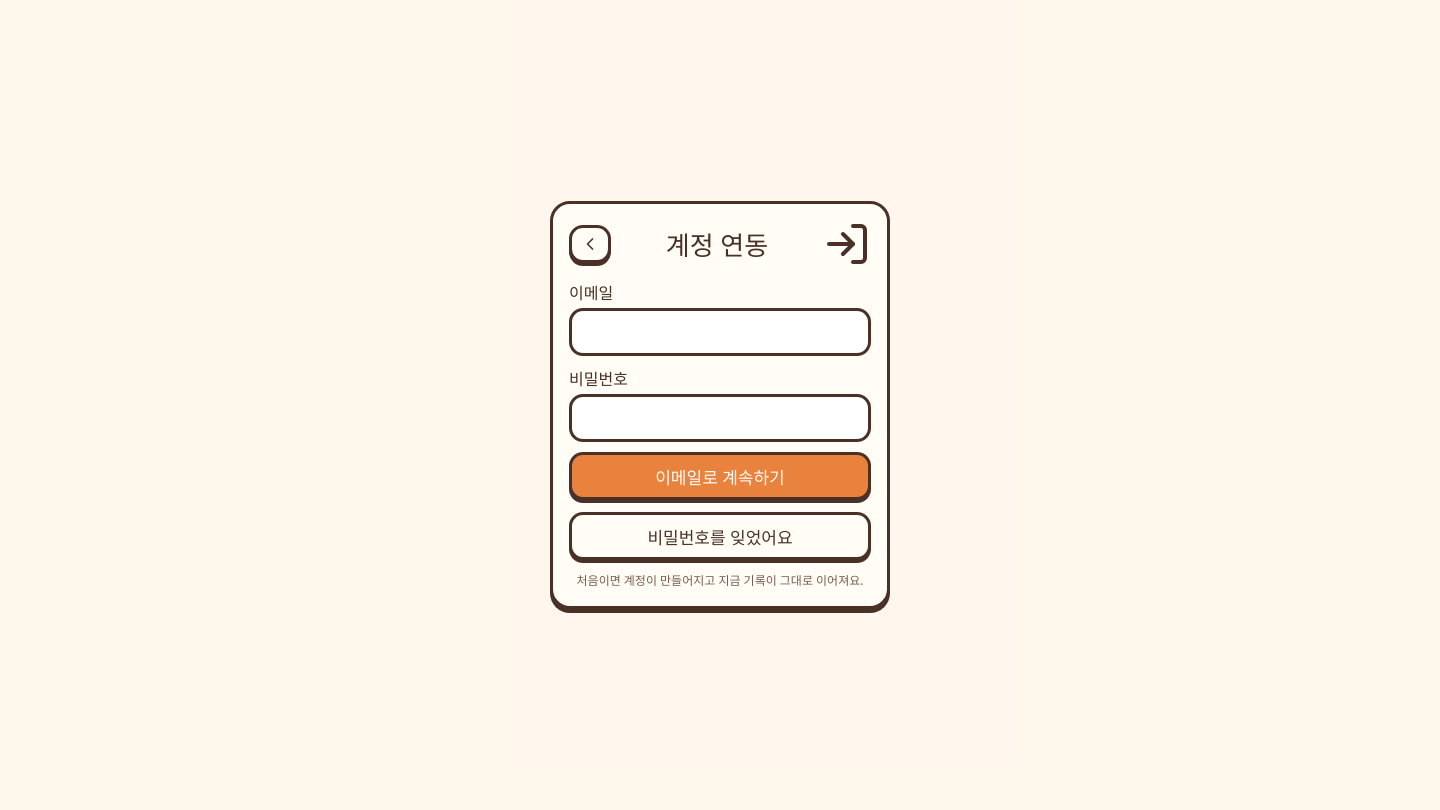
Scenario: AuthDialog 상호작용 및 수명 보존 (task-1 회귀 검증) › chooseBase 상태에서도 입력 필드·오류가 form 안에 유지되고, reset 버튼은 form 밖에서 chooseBase일 때 숨겨진다
The width and height of the screenshot is (1440, 810).
Expected: the form with class "login-form" is shown, [569, 280, 871, 500]
Note: 유효성 검사 실패 시 오류가 form 안에 표시된다
Type "test@example.com" into the field labelled "이메일". click: (720, 332)
box: [569, 308, 871, 356]
Type "123" into the password field labelled "비밀번호". click: (720, 418)
box: [569, 394, 871, 442]
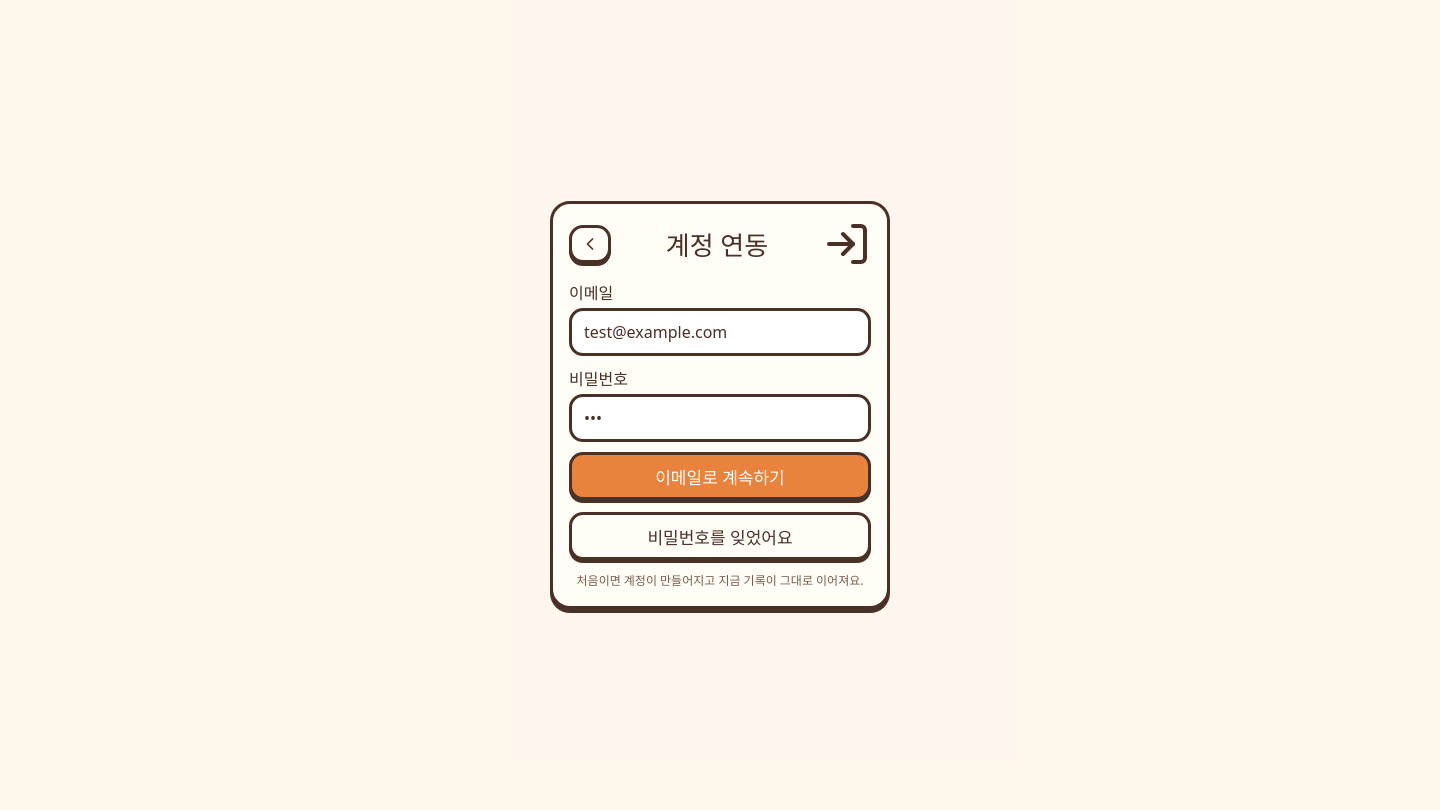
Click the button "이메일로 계속하기". click: (720, 476)
box: [569, 452, 871, 500]
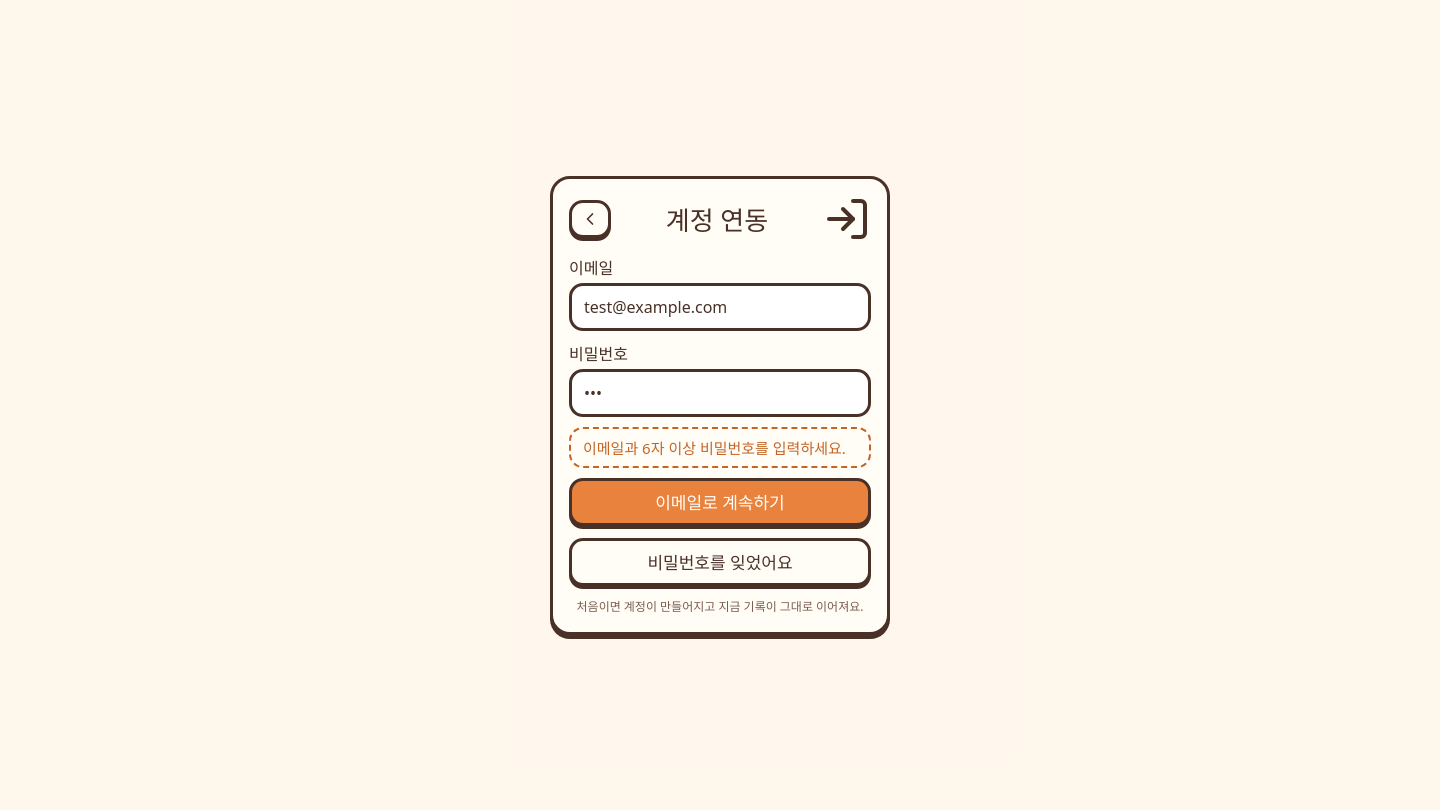
Expected: the message reads "이메일과 6자 이상 비밀번호를 입력하세요.", [583, 438, 846, 458]
Type "password123" into the password field labelled "비밀번호". click: (720, 392)
box: [569, 368, 871, 416]
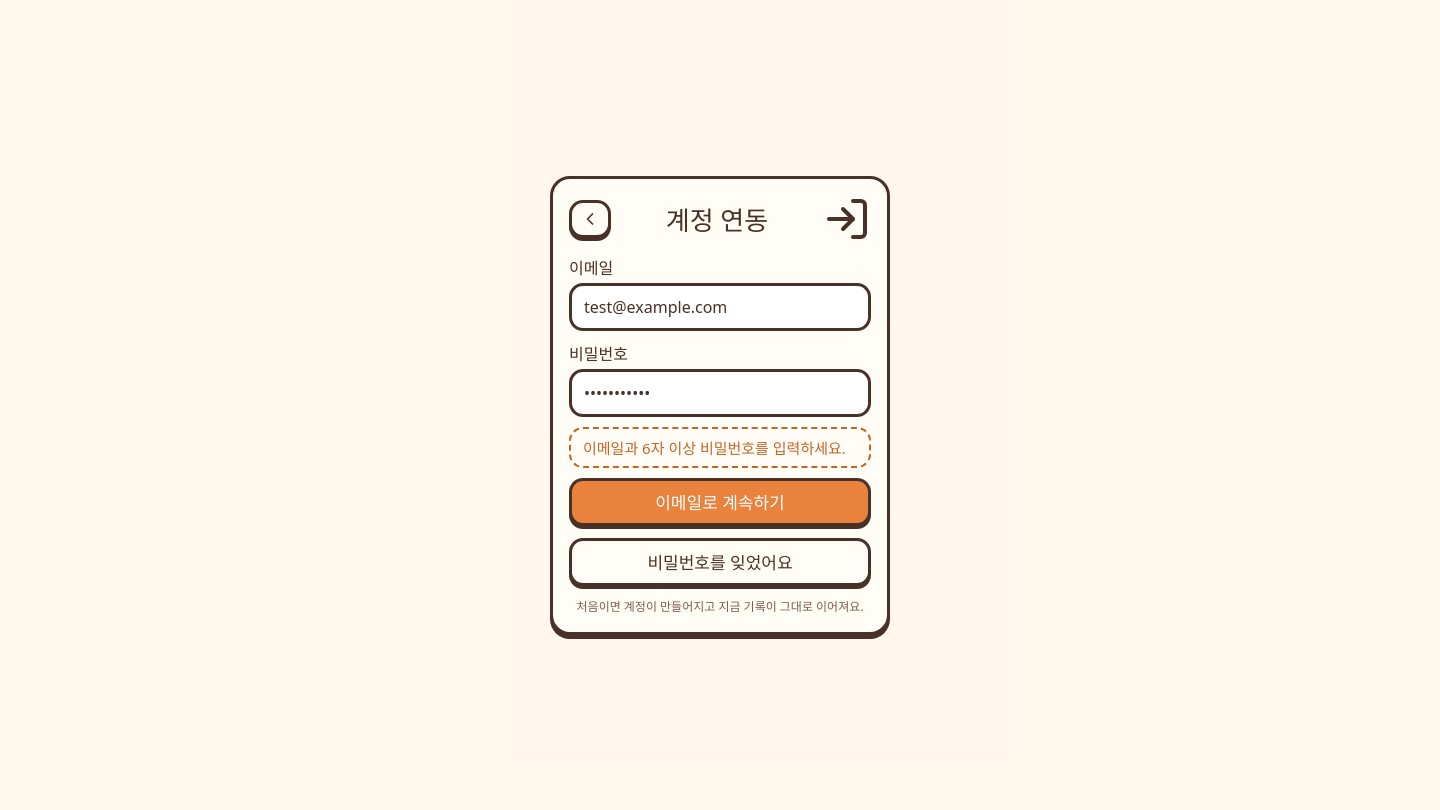
Click the button "이메일로 계속하기". click: (720, 502)
box: [569, 478, 871, 526]
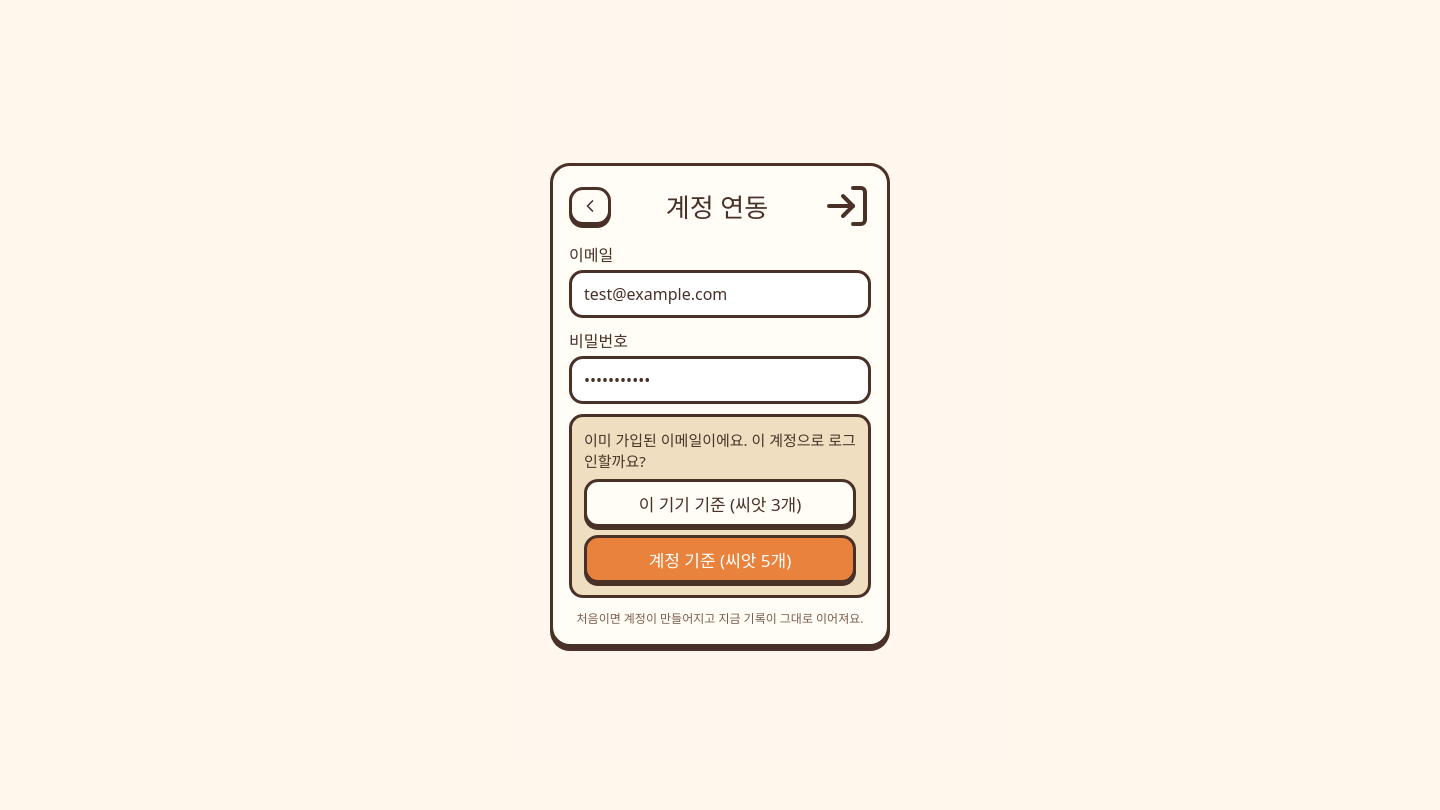
Expected: the button "비밀번호를 잊었어요" is gone
Click the button "이 기기 기준 (씨앗 3개)". click: (720, 503)
box: [584, 479, 856, 527]
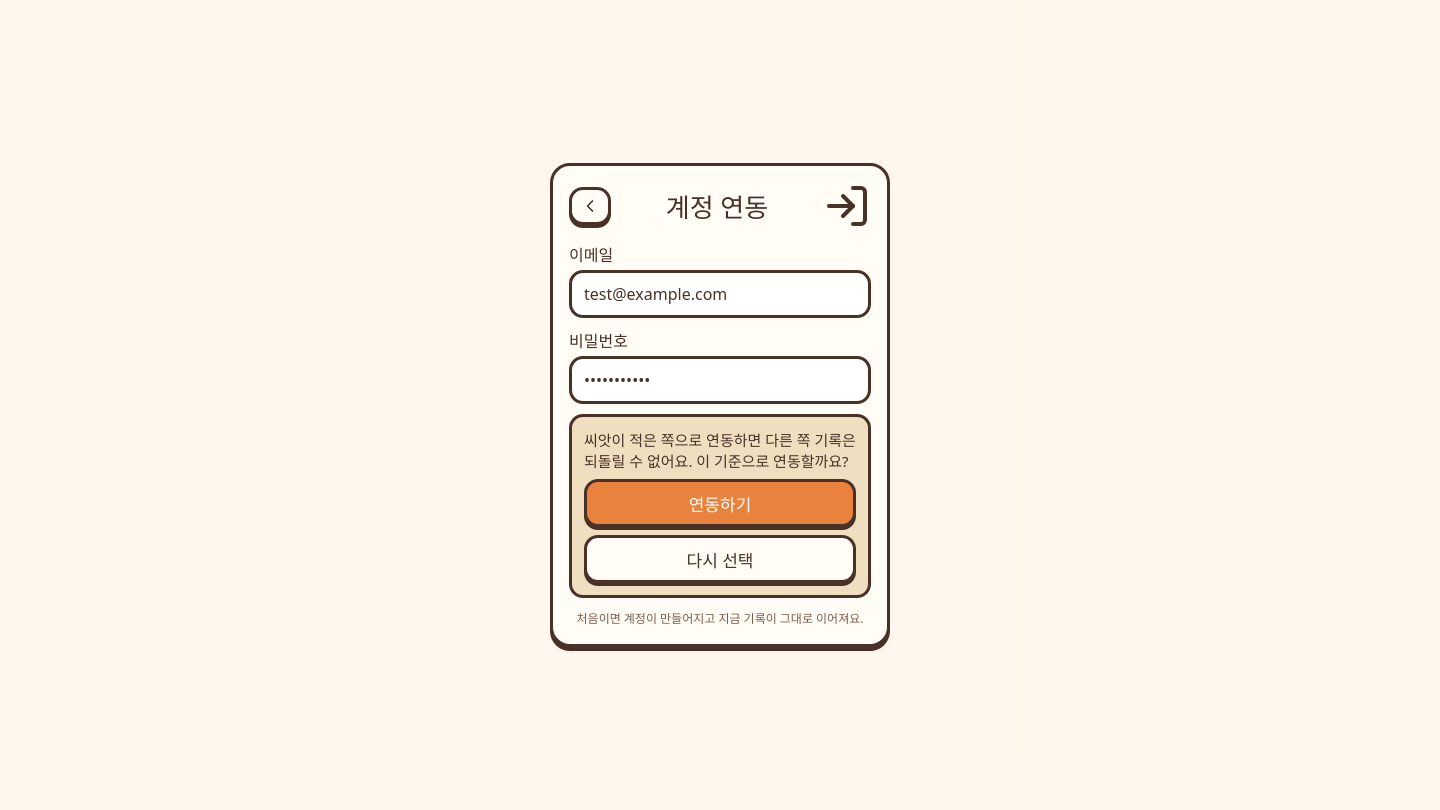
Expected: the text "씨앗이 적은 쪽으로 연동하면 다른 쪽 기록은 되돌릴 수 없어요. 이 기준으로 연동할까요?" is shown, [584, 429, 856, 471]
Note: 다시 선택 클릭 시 다시 선택 화면으로 복귀
Click the button "다시 선택". click: (720, 559)
box: [584, 535, 856, 583]
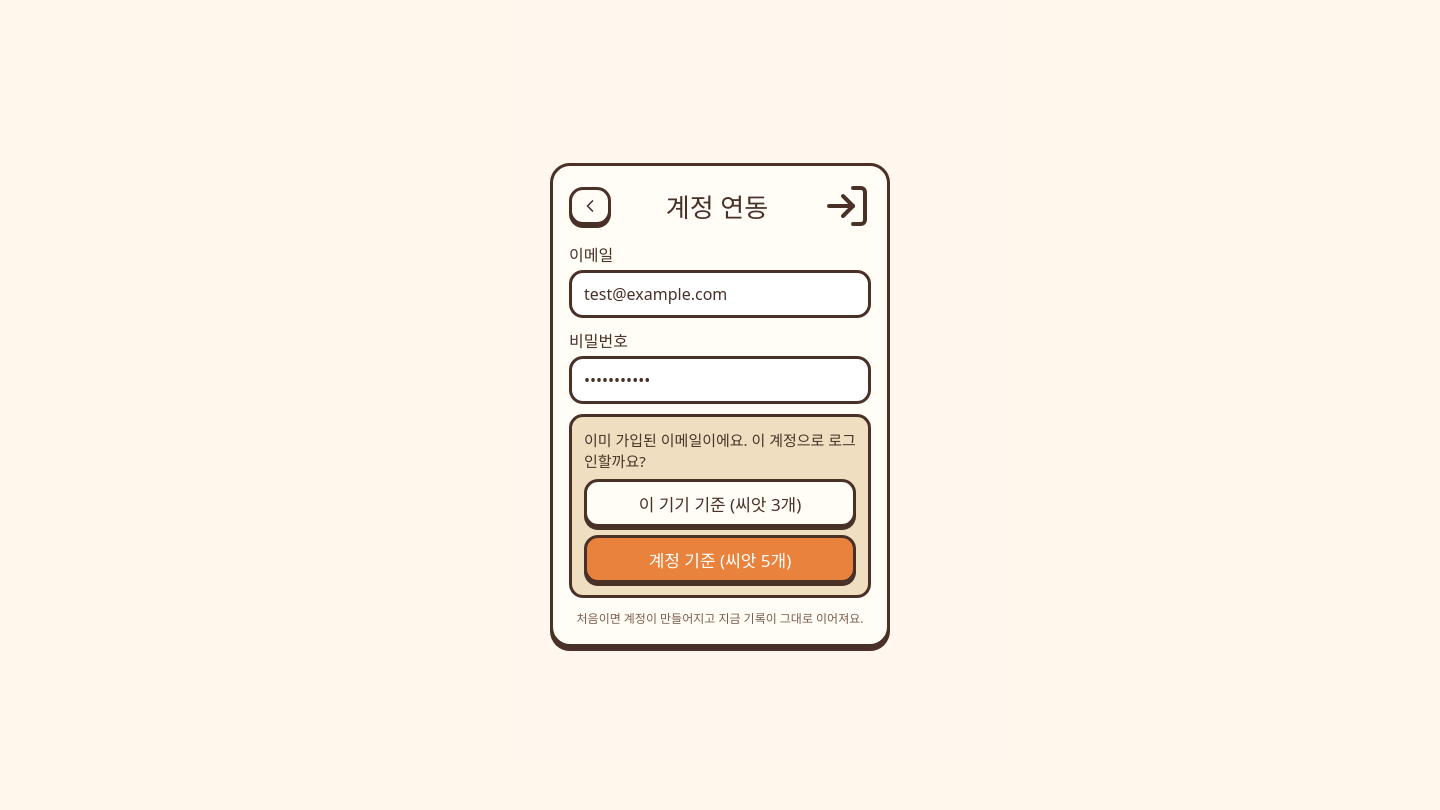
Expected: the button "이 기기 기준 (씨앗 3개)" is shown, [584, 479, 856, 527]
